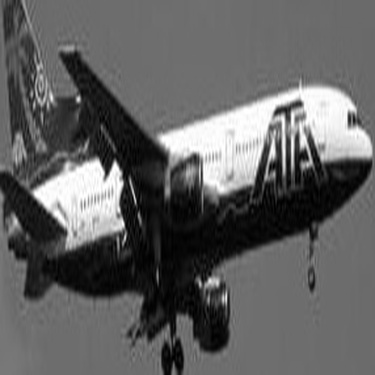airplane: (6, 4, 370, 371)
